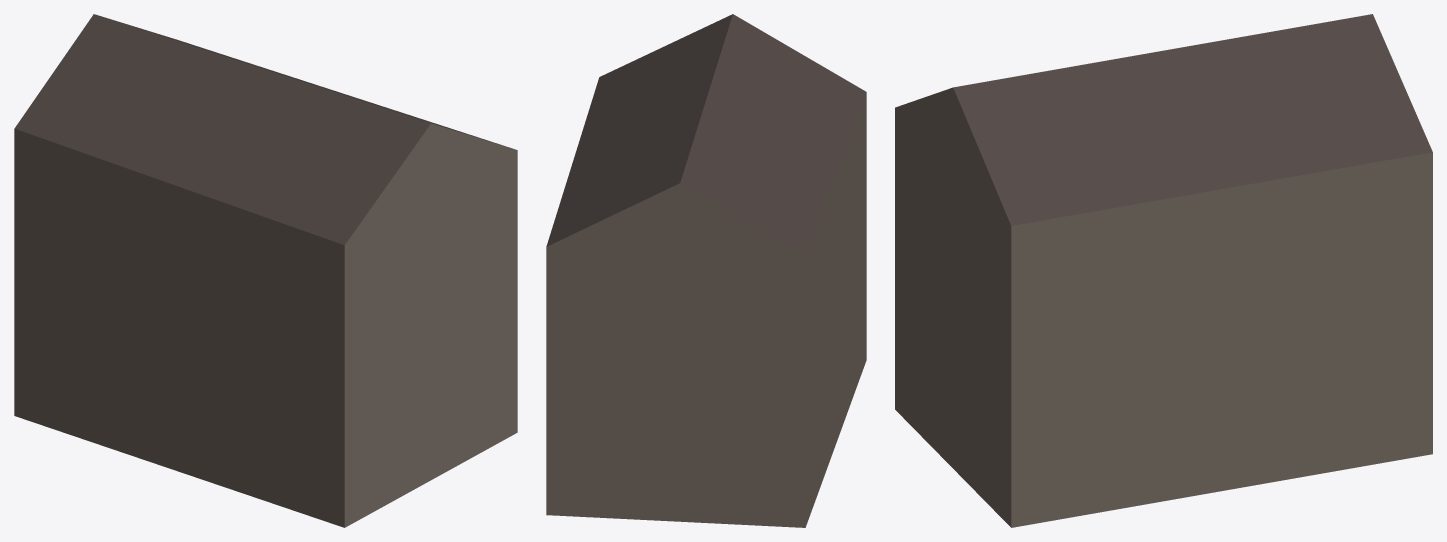
The picture shows the model from 3 angles, left to right: view 1: azimuth 30°, elevation 25°; view 2: azimuth 150°, elevation 25°; view 3: azimuth 270°, elevation 25°; orthographic projection. The views are drawn at different scales.
Visible parts, largest first — view 1: HP-w1198845827; view 2: HP-w1198845827; view 3: HP-w1198845827.
Part boxes in pixels (x1,y1,x2,y2): HP-w1198845827: (14,14,517,527); HP-w1198845827: (546,14,866,527); HP-w1198845827: (895,14,1432,527).
Size of the model in its own units: 8 by 7.58 by 9.69.
